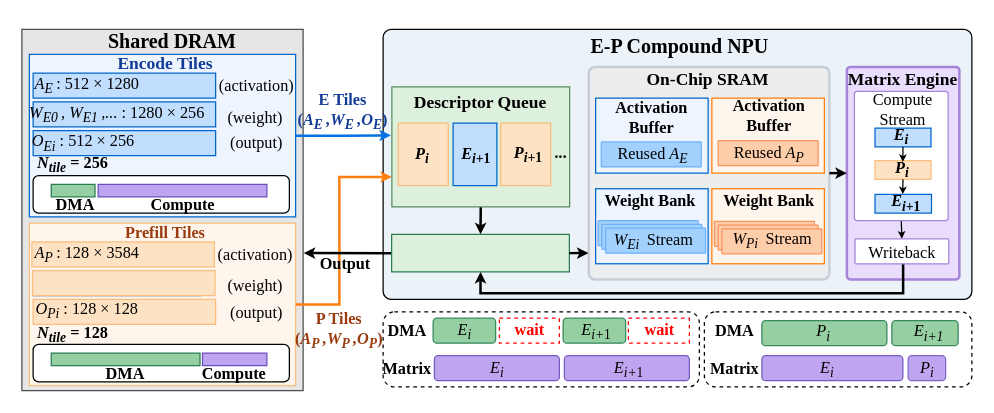
This 994x413 diagram has some shape labels left out. The shapes that lost their labels are listed below. From the top down, each one's centre as x and y in pixels, then its label:
[479,252]: DMA Engine
[123,282]: W P0 , W P1 ,... : 3584 × 128
